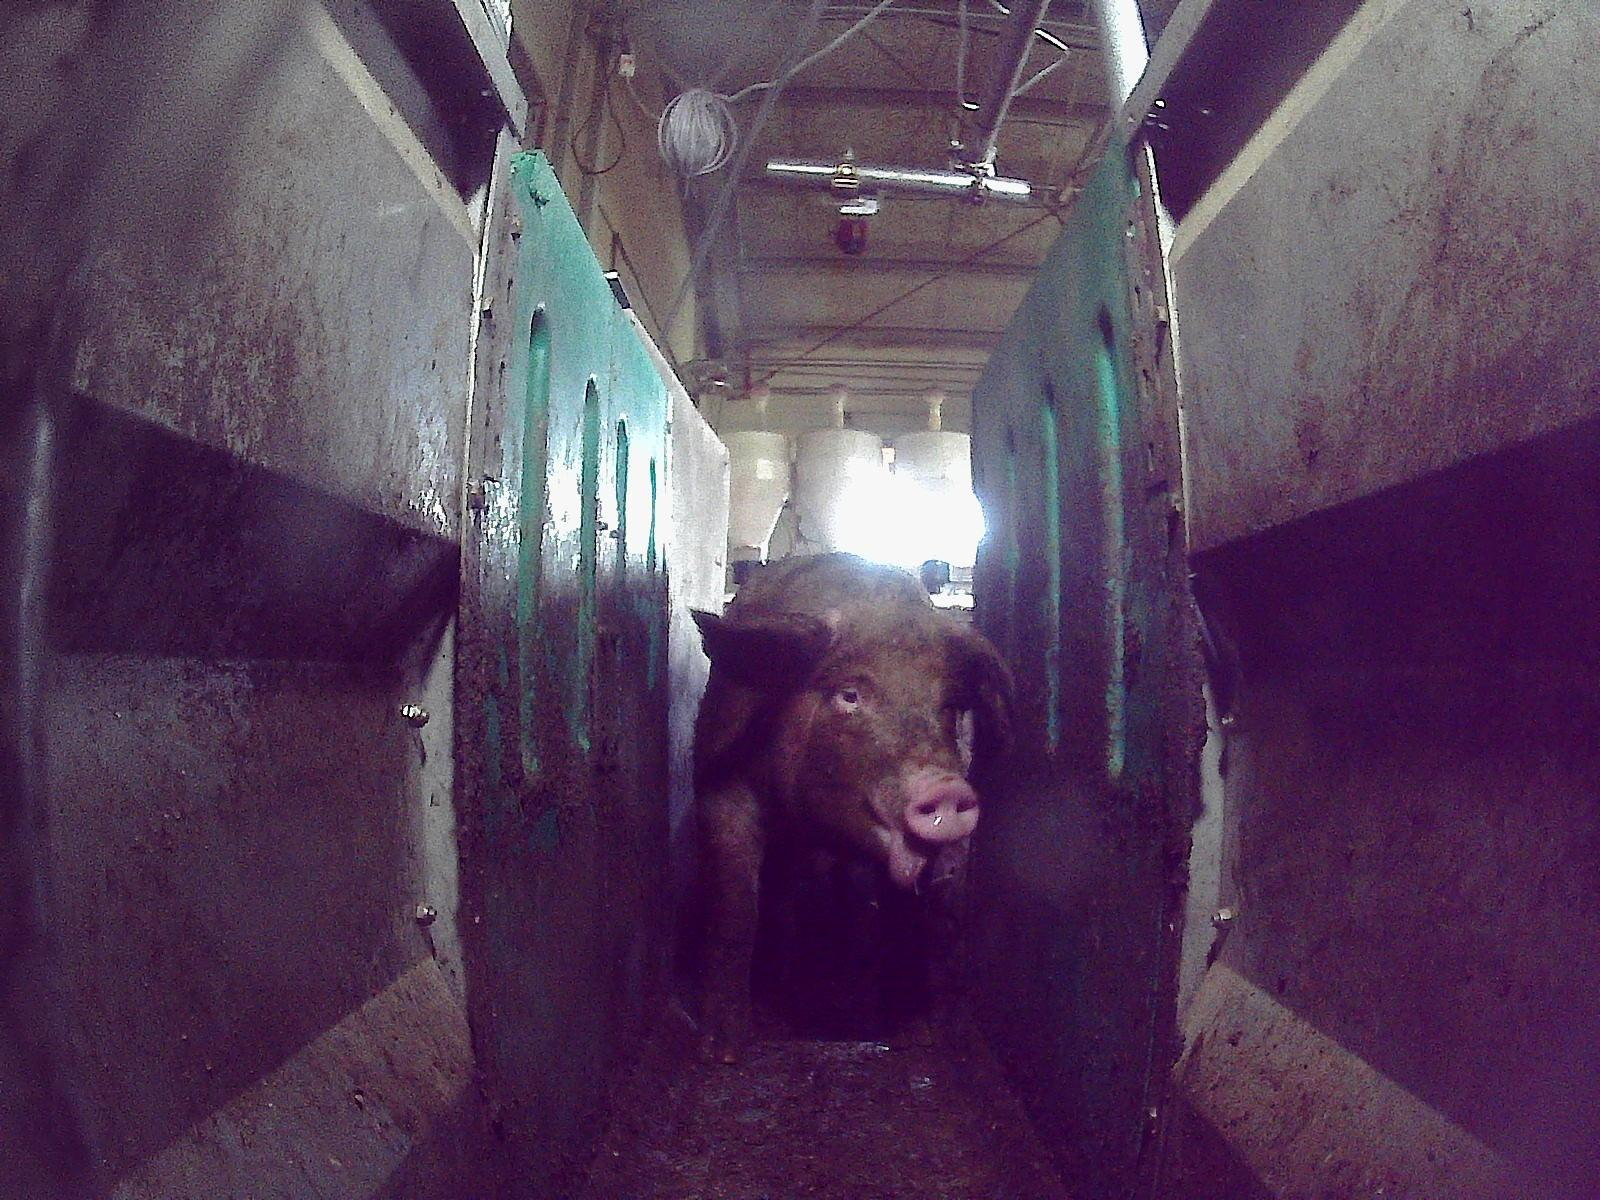Face: (781, 597, 976, 885)
